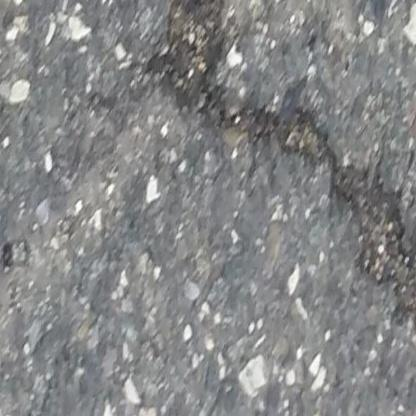Cracks: (138, 0, 416, 332)
